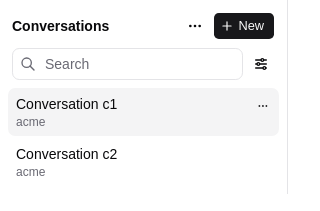
Scenario: search box › shows why a search failed
This screenshot has width=320, height=211.
Type "overdue" into the search field named "Search conversations" at x=128, y=64, box top-left (12, 48), bottom-right (243, 80)
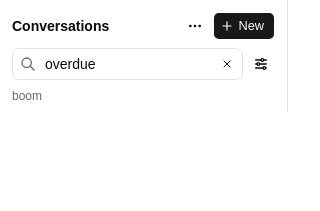
Check: the text "boom" is shown, box top-left (12, 89), bottom-right (42, 103)
